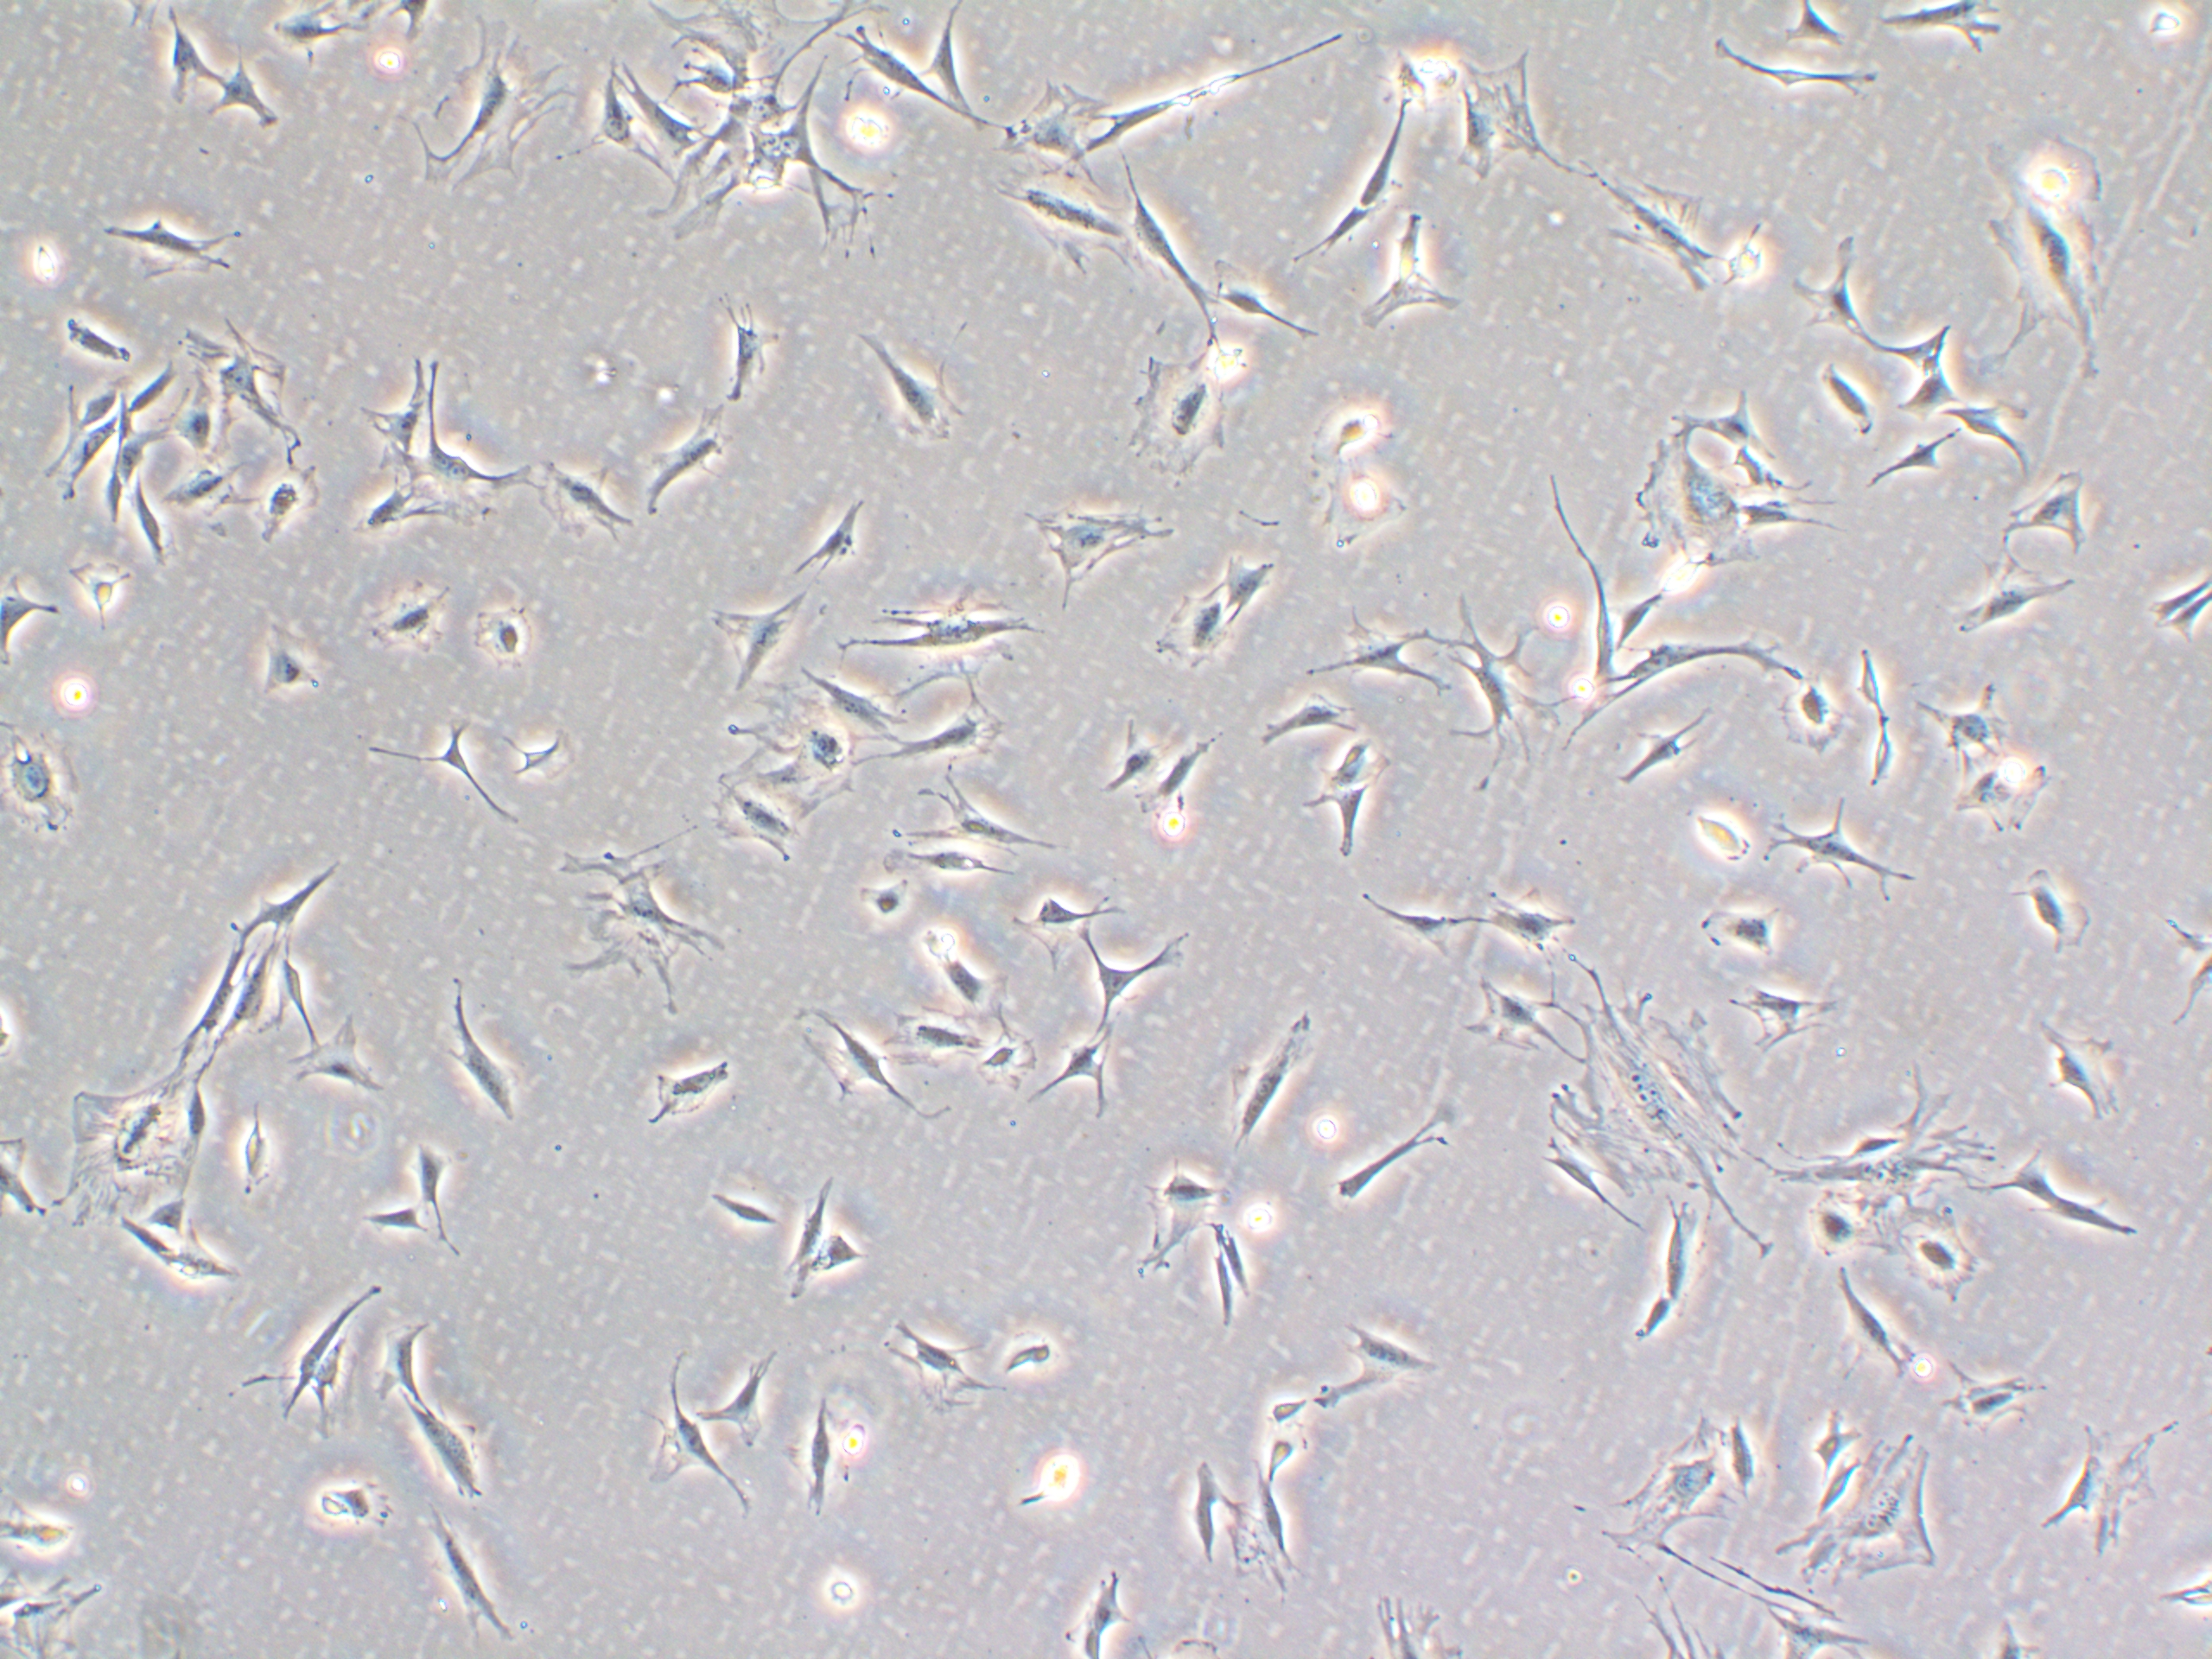Etc: (235, 1089, 279, 1223), (1254, 1420, 1318, 1485), (1247, 1378, 1312, 1439)
polygonal: (632, 1344, 768, 1535), (404, 960, 540, 1140), (249, 1281, 395, 1446), (1101, 150, 1228, 338), (1538, 451, 1623, 706), (827, 317, 975, 451), (1209, 986, 1329, 1150), (1325, 1094, 1477, 1218), (840, 24, 1003, 132), (1764, 800, 1925, 908), (780, 1000, 928, 1115), (1076, 920, 1235, 1026), (1602, 176, 1738, 300), (1993, 1141, 2148, 1249), (383, 714, 529, 828), (411, 1506, 521, 1649), (1118, 1147, 1230, 1286), (887, 777, 1069, 861), (1318, 1312, 1458, 1420), (765, 1164, 853, 1331), (571, 59, 667, 214), (98, 207, 240, 310), (334, 349, 456, 469), (1303, 603, 1447, 701), (2033, 993, 2134, 1133), (1820, 1260, 1933, 1384), (1583, 704, 1731, 796), (876, 1316, 1014, 1415), (512, 451, 650, 551), (1601, 631, 1806, 697), (219, 849, 354, 950), (1440, 976, 1592, 1065), (1944, 551, 2085, 645), (1028, 1028, 1132, 1152), (683, 1338, 799, 1448), (1521, 1136, 1649, 1236), (2003, 856, 2107, 978), (1313, 716, 1395, 871), (1345, 884, 1493, 969), (698, 591, 815, 697), (1472, 863, 1587, 969), (646, 404, 742, 532), (1667, 373, 1785, 474), (775, 1392, 873, 1514), (390, 1396, 493, 1509), (249, 615, 348, 732), (1717, 969, 1844, 1060), (1939, 1351, 2074, 1434), (272, 1012, 395, 1103), (1796, 232, 1876, 369), (1204, 261, 1332, 347), (413, 429, 526, 525), (366, 568, 469, 669), (2006, 457, 2107, 558), (1089, 716, 1174, 835), (366, 1295, 446, 1419), (779, 493, 900, 573), (1935, 397, 2052, 479), (1146, 721, 1237, 826), (1648, 1195, 1723, 1319), (1245, 683, 1360, 763), (1057, 1560, 1150, 1659), (921, 9, 986, 150), (1007, 885, 1127, 957), (714, 296, 787, 413), (40, 392, 120, 498), (1141, 587, 1230, 683), (1170, 1441, 1235, 1570), (409, 1134, 472, 1267), (1669, 901, 1791, 969), (200, 58, 303, 138), (237, 451, 319, 551), (1346, 92, 1411, 216), (1872, 0, 2003, 61), (639, 1051, 733, 1133), (158, 1223, 254, 1302), (683, 1173, 780, 1244), (1197, 551, 1294, 620), (1864, 425, 1959, 493), (1811, 359, 1886, 443), (122, 464, 176, 575), (333, 474, 415, 544), (275, 951, 331, 1053), (99, 423, 153, 526), (103, 355, 176, 430), (162, 10, 218, 106), (1872, 310, 1952, 376), (1280, 206, 1376, 258), (322, 1471, 401, 1528), (1195, 1246, 1240, 1340), (1209, 1218, 1261, 1298), (347, 1202, 442, 1246), (1886, 373, 1966, 422), (1848, 641, 1892, 721), (139, 1194, 202, 1241), (1864, 721, 1898, 791)
small-round: (1308, 380, 1393, 474), (56, 545, 141, 638), (1676, 798, 1768, 871), (801, 1568, 885, 1633), (472, 603, 547, 673), (852, 871, 916, 938), (1017, 1331, 1069, 1373), (307, 1483, 348, 1532)
spread: (1548, 955, 1768, 1230), (1952, 125, 2160, 375), (550, 836, 749, 1018), (1796, 1070, 1989, 1239), (1601, 1406, 1771, 1586), (395, 16, 557, 202), (1794, 1413, 1963, 1589), (1609, 415, 1766, 601), (47, 1058, 197, 1223), (1432, 598, 1561, 782), (171, 310, 324, 465), (840, 577, 1029, 701), (707, 674, 876, 812), (1116, 329, 1268, 483), (2045, 1412, 2170, 1593), (988, 160, 1155, 293), (1433, 44, 1573, 185), (998, 490, 1167, 592), (667, 0, 805, 124), (704, 763, 859, 859), (988, 64, 1116, 179), (1876, 1192, 1989, 1323), (1905, 687, 2015, 781), (1951, 756, 2055, 843)
